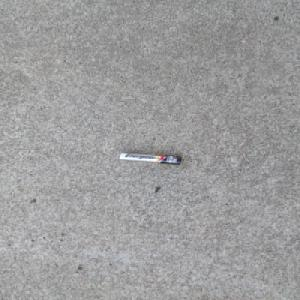Battery: (116, 151, 184, 165)
